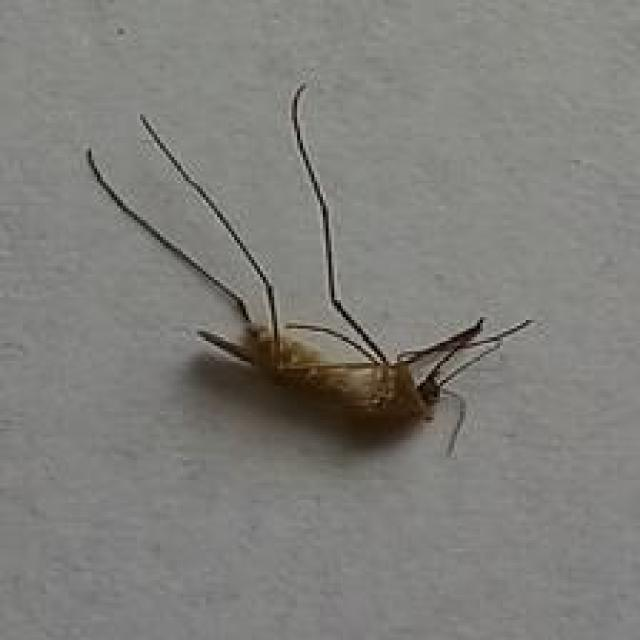Culex: (84, 79, 536, 458)
